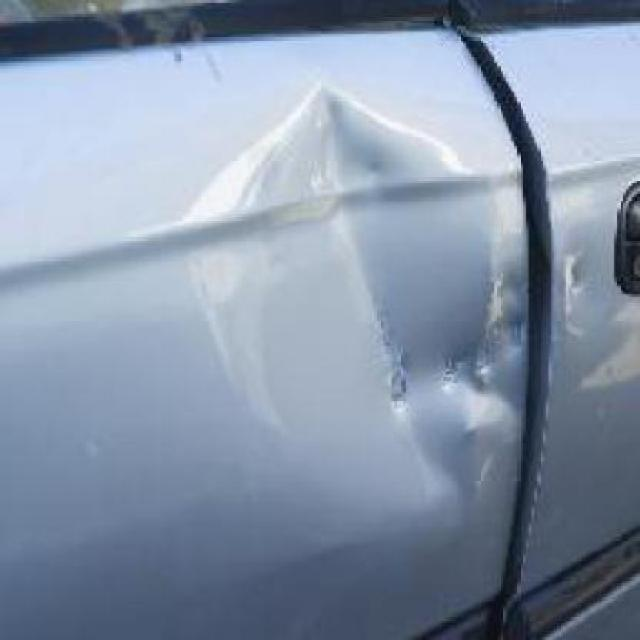dent-or-scratch: (203, 77, 522, 526)
